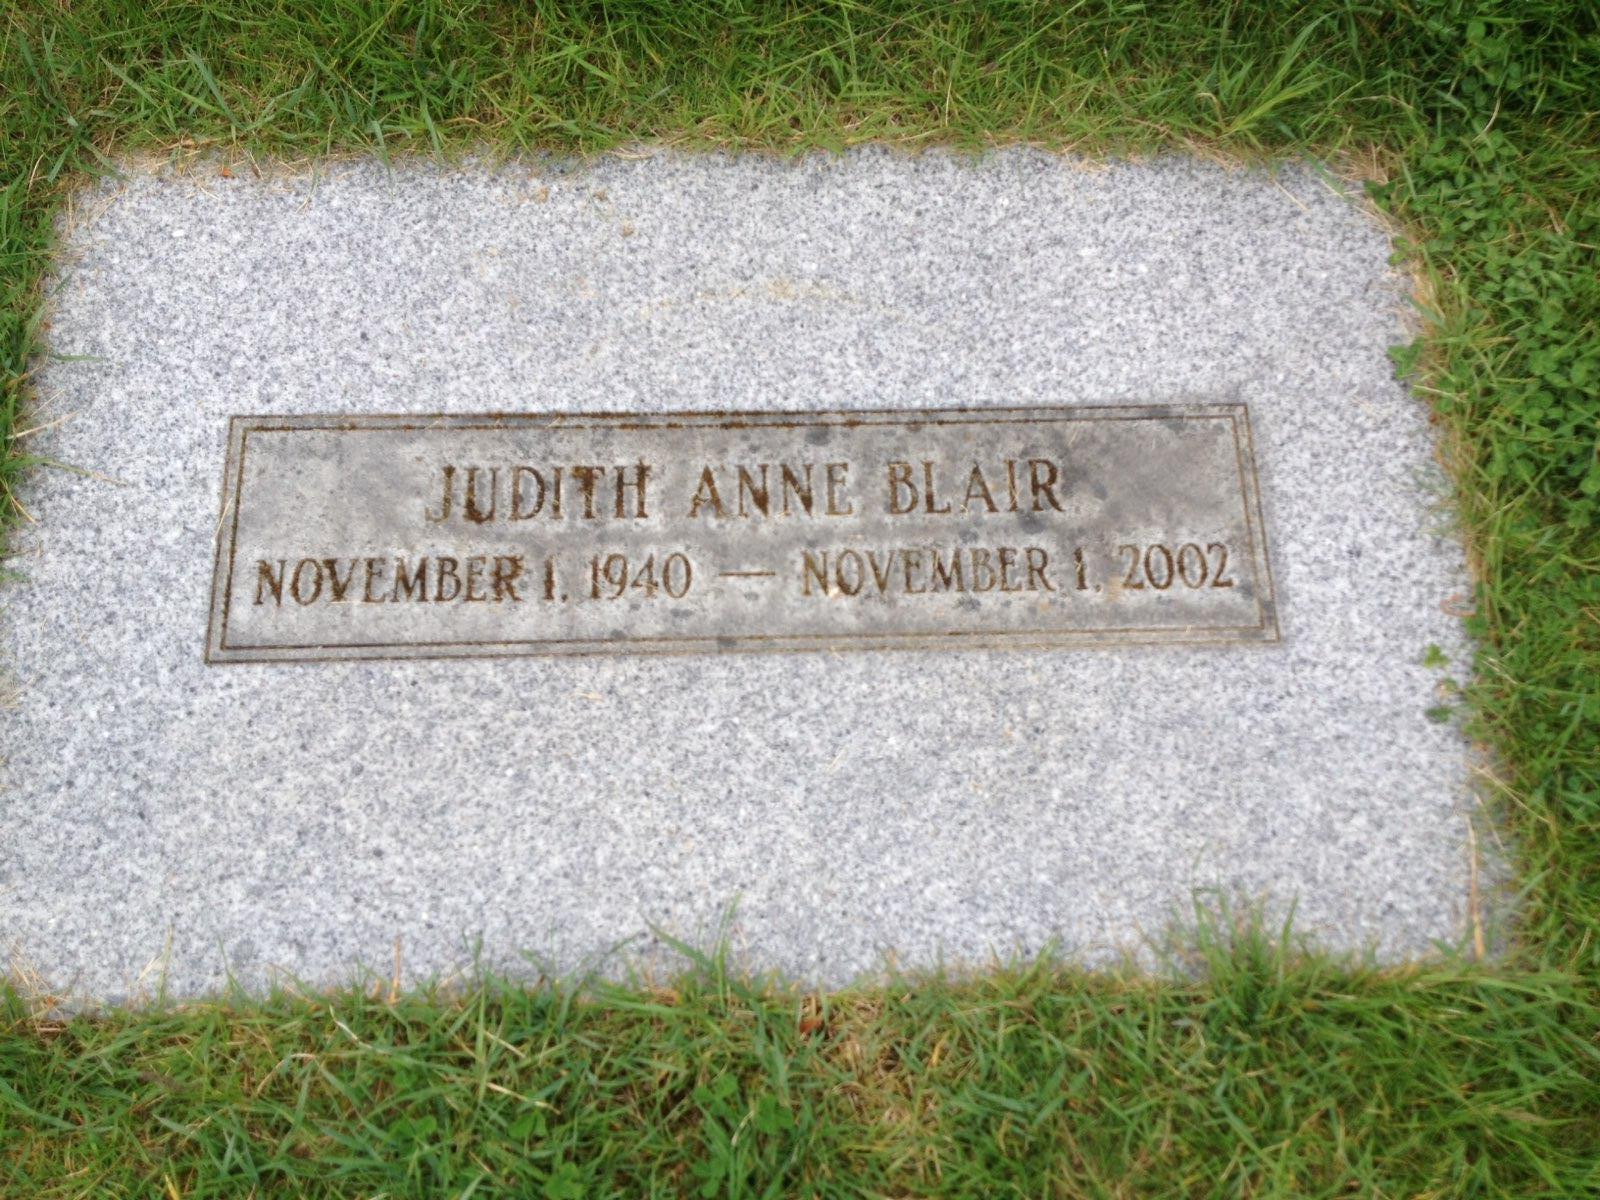flat: (198, 403, 1300, 666)
